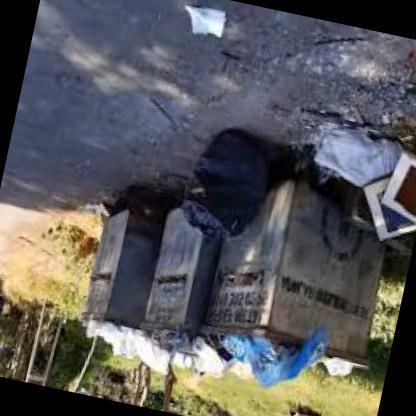Garbage: (93, 312, 346, 406), (182, 130, 274, 235), (218, 320, 332, 393), (318, 114, 398, 184)
